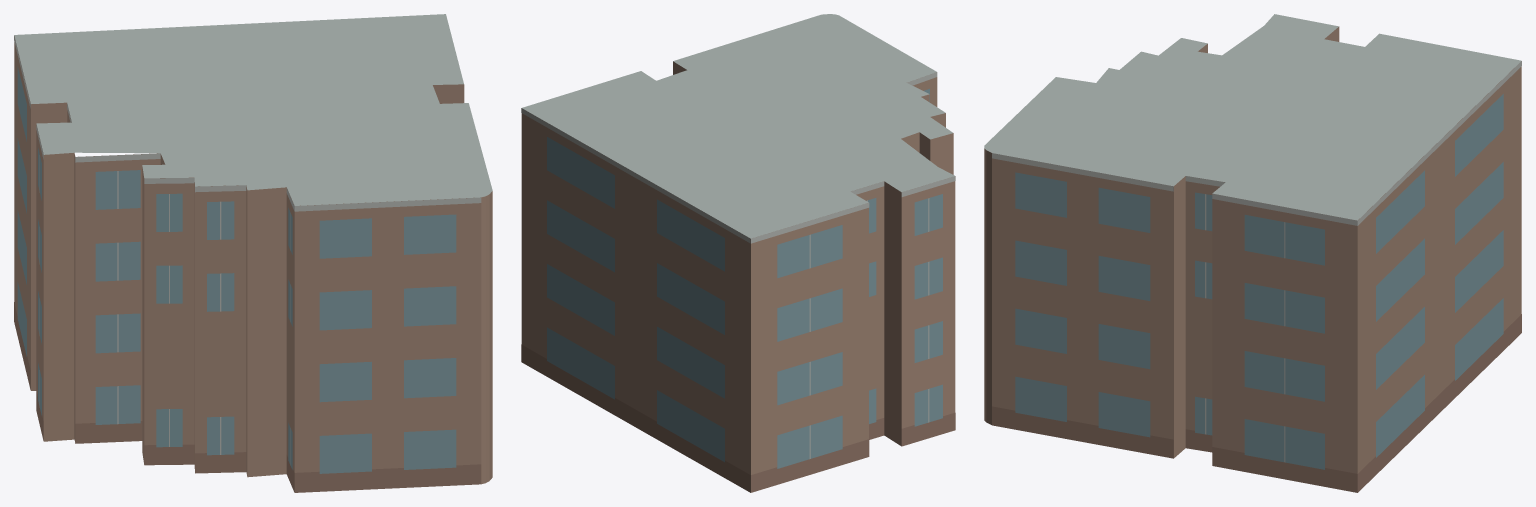
File: survey-upis-32669512.glb
The picture shows the model from 3 angles, left to right: view 1: azimuth 30°, elevation 25°; view 2: azimuth 150°, elevation 25°; view 3: azimuth 270°, elevation 25°; orthographic projection. The views are drawn at different scales.
Parts seen in each view (by area): view 1: survey-upis-32669512.tmp; view 2: survey-upis-32669512.tmp; view 3: survey-upis-32669512.tmp.
Boxes of the visible parts, bbox=[...] form: survey-upis-32669512.tmp: bbox=[14, 14, 492, 492]; survey-upis-32669512.tmp: bbox=[521, 14, 955, 492]; survey-upis-32669512.tmp: bbox=[984, 14, 1521, 492].
Size of the model in its own units: 20.18 by 12.4 by 22.2.
